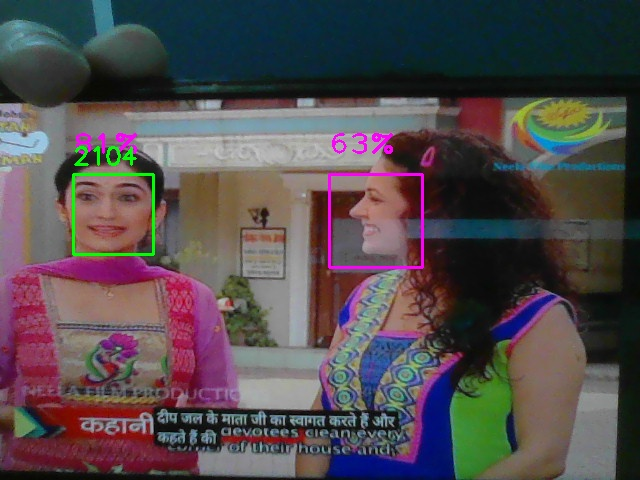fake: (73, 174, 154, 255)
